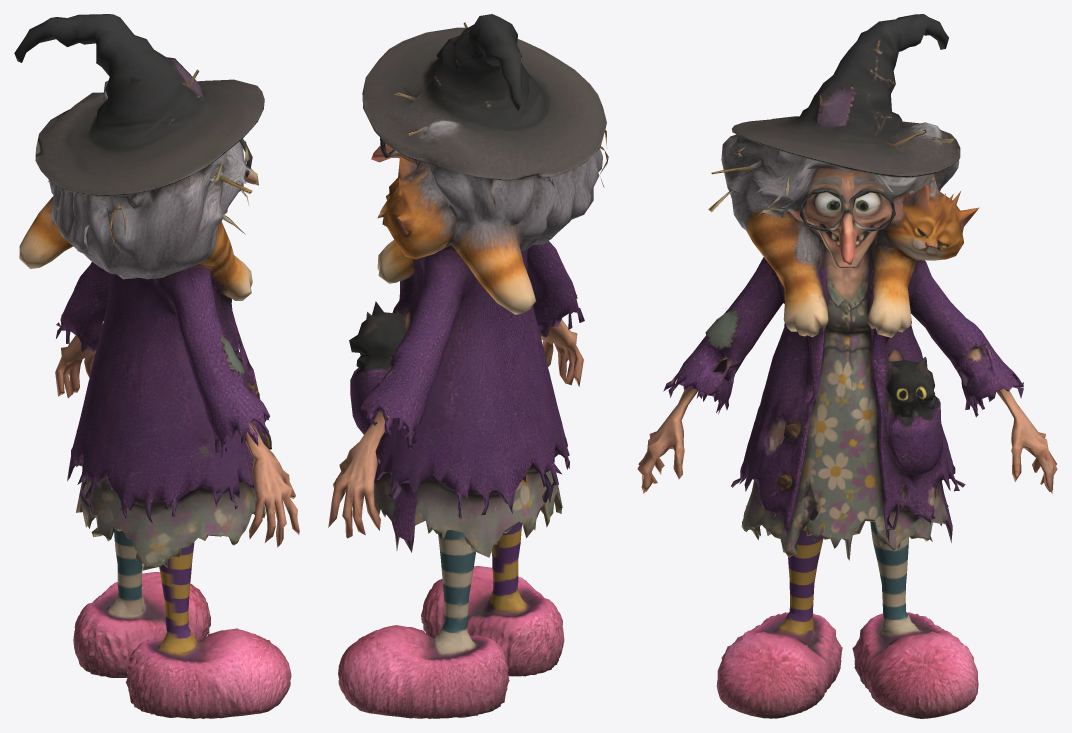
Rendered from catlady.glb.
3 views of the same model, side by side, from view 1: azimuth 30°, elevation 25°; view 2: azimuth 150°, elevation 25°; view 3: azimuth 270°, elevation 25° (orthographic). The views are drawn at different scales.
Visible parts, largest first — view 1: tripo_node_294e0131-3dbc-4ec5-9230-9324c3309bc0; view 2: tripo_node_294e0131-3dbc-4ec5-9230-9324c3309bc0; view 3: tripo_node_294e0131-3dbc-4ec5-9230-9324c3309bc0.
Boxes of the visible parts, <box> form: tripo_node_294e0131-3dbc-4ec5-9230-9324c3309bc0: <box>14,14,299,718</box>; tripo_node_294e0131-3dbc-4ec5-9230-9324c3309bc0: <box>328,14,608,718</box>; tripo_node_294e0131-3dbc-4ec5-9230-9324c3309bc0: <box>637,14,1057,718</box>.
Bounding box in the file's own units: 0.3272 × 0.9978 × 0.59.
Materials: 1 (1 with a texture image).
